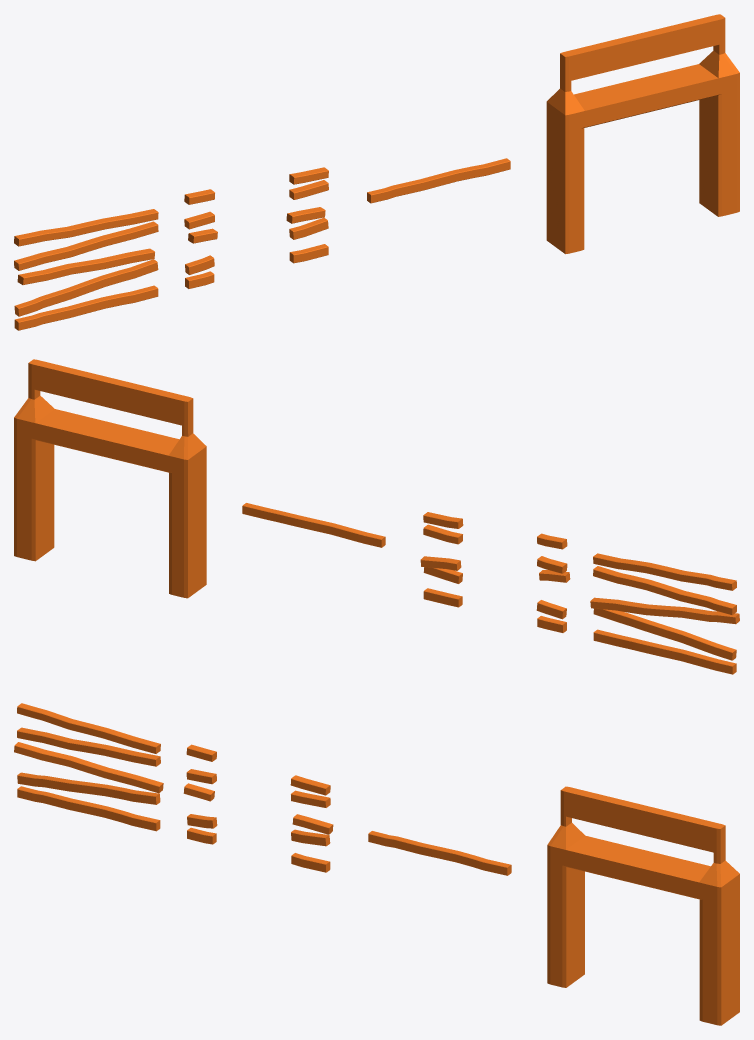
The model's file is PuertaTablones_low.fbx.
The picture shows the model from 3 angles, top to bottom: view 1: azimuth 30°, elevation 25°; view 2: azimuth 150°, elevation 25°; view 3: azimuth 330°, elevation 25°; orthographic projection.
Visible parts, largest first — view 1: door_low, beams_low, broken_beams_low, beam_low; view 2: door_low, beams_low, broken_beams_low, beam_low; view 3: door_low, beams_low, broken_beams_low, beam_low.
Boxes of the visible parts, x1=… form: door_low: x1=546, y1=14, x2=739, y2=254; beams_low: x1=14, y1=209, x2=158, y2=330; broken_beams_low: x1=184, y1=167, x2=328, y2=288; beam_low: x1=367, y1=158, x2=510, y2=203; door_low: x1=14, y1=359, x2=206, y2=598; beams_low: x1=590, y1=553, x2=739, y2=674; broken_beams_low: x1=420, y1=512, x2=570, y2=632; beam_low: x1=242, y1=503, x2=385, y2=547; door_low: x1=547, y1=786, x2=739, y2=1025; beams_low: x1=14, y1=703, x2=163, y2=831; broken_beams_low: x1=183, y1=744, x2=333, y2=872; beam_low: x1=368, y1=831, x2=511, y2=875.
Size of the model in its own units: 1601 by 408 by 76.17.
